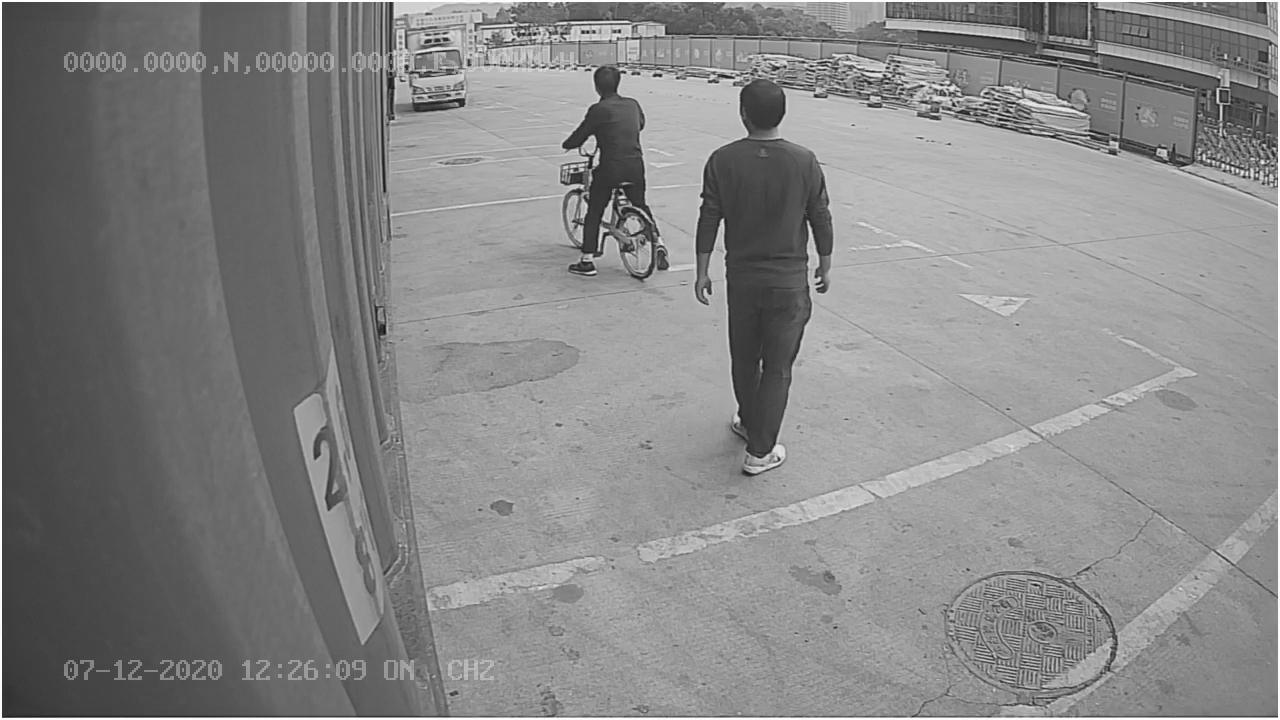person: (683, 75, 844, 482)
